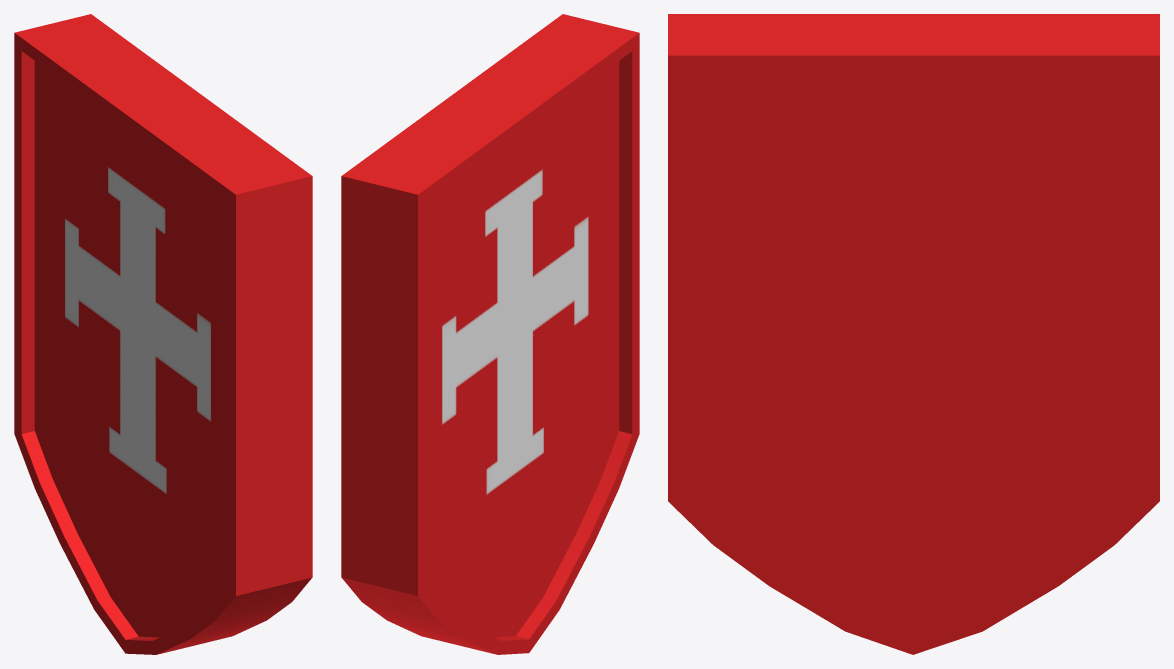
Rendered from Shield.fbx.
The picture shows the model from 3 angles, left to right: view 1: azimuth 30°, elevation 25°; view 2: azimuth 150°, elevation 25°; view 3: azimuth 270°, elevation 25°; orthographic projection. The views are drawn at different scales.
Visible parts, largest first — view 1: Cube; view 2: Cube; view 3: Cube.
Boxes of the visible parts, x1,y1,x2,y2 form: Cube: (14, 14, 312, 654); Cube: (341, 14, 639, 654); Cube: (668, 14, 1159, 654).
Size of the model in its own units: 24.58 by 165 by 123.
